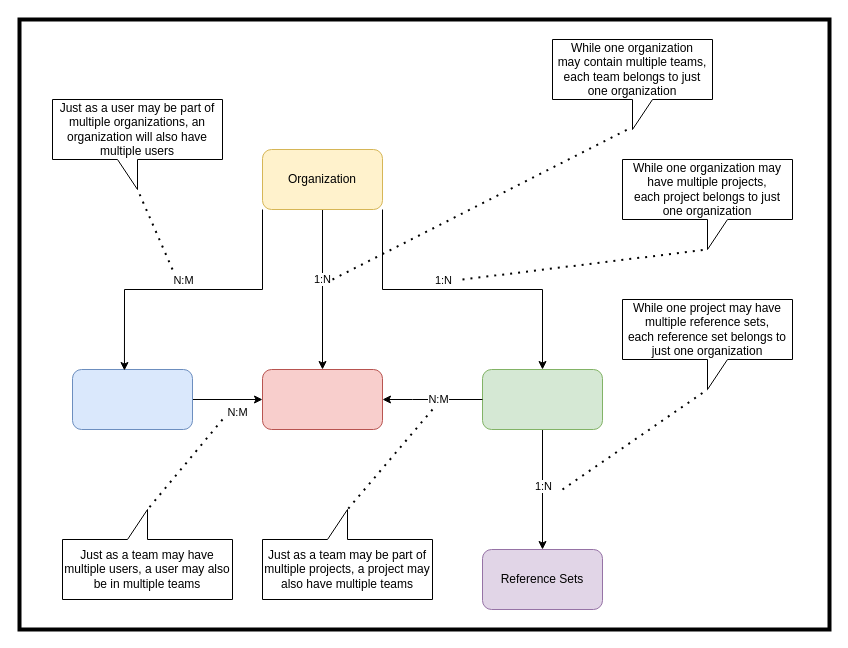
Image size: 848x648. Some labels were removed from this diagram. Each missing label, with the centre of its shape:
Projects: the point at 542,399
Teams: the point at 322,399
Users: the point at 132,399
